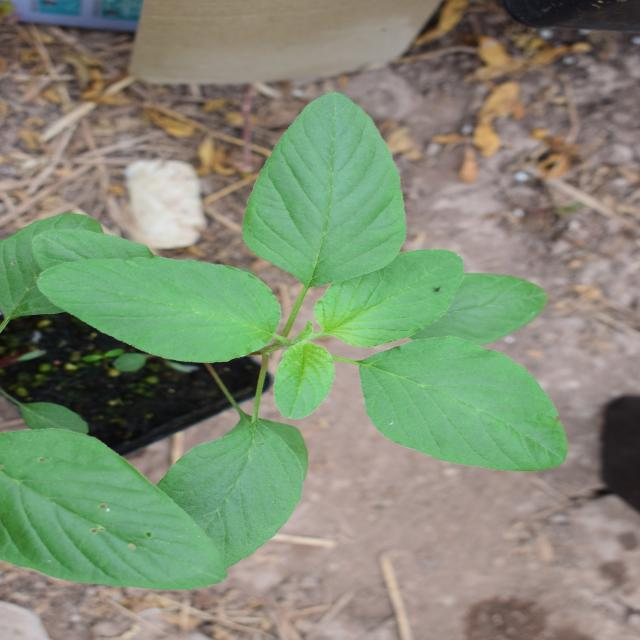pigweed: (99, 72, 556, 556)
